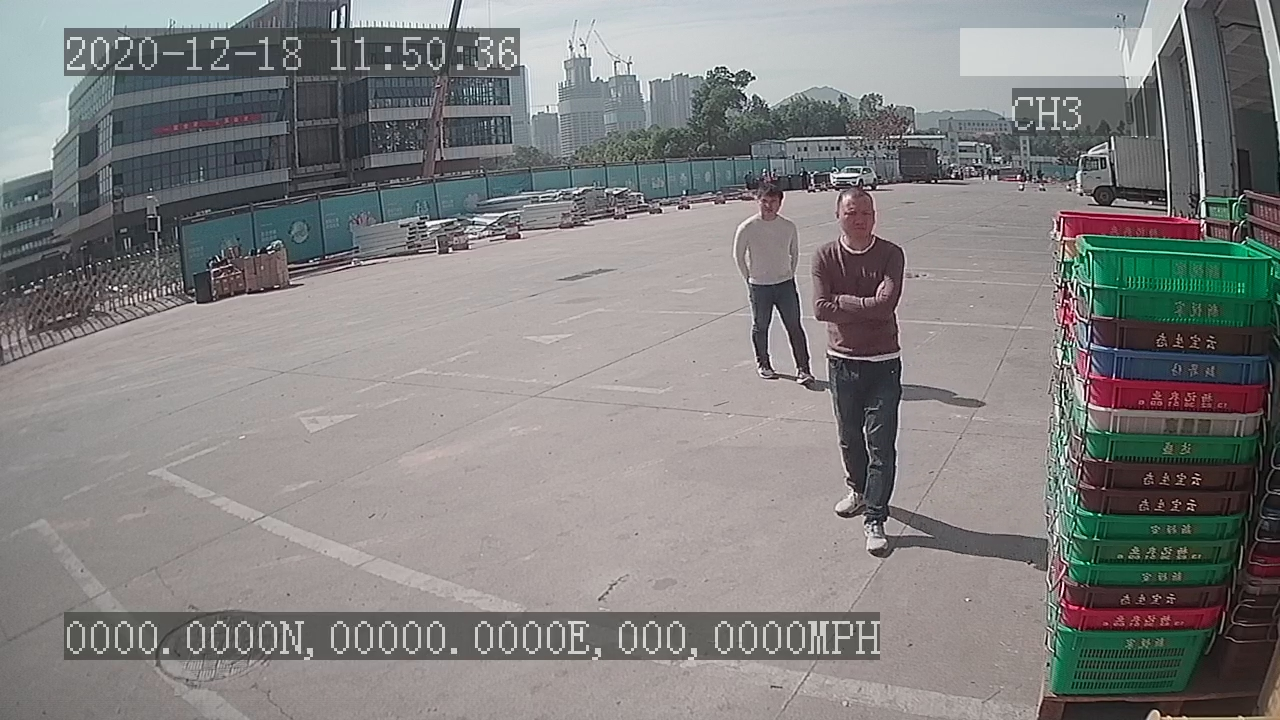person: (809, 181, 915, 561)
